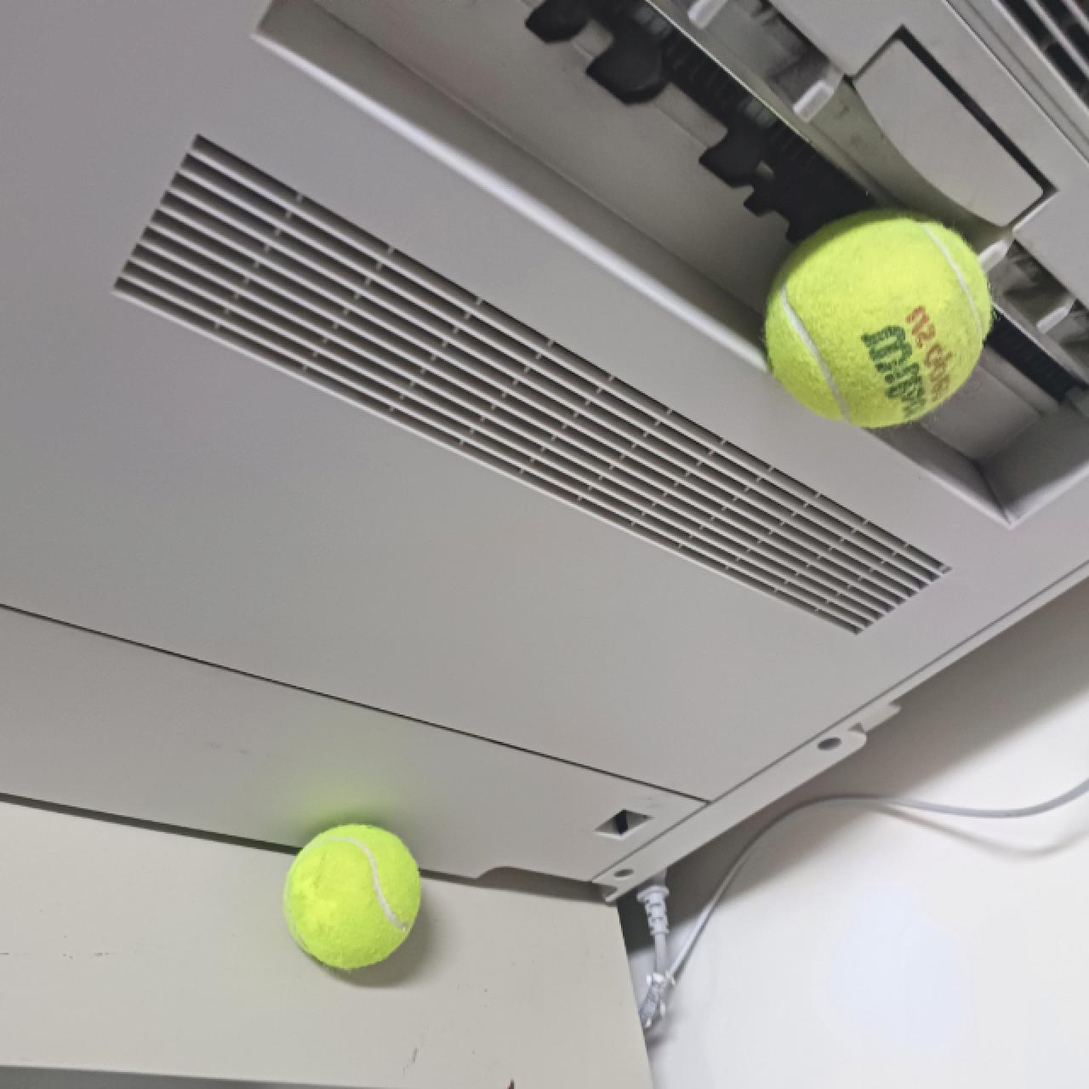tennis-ball: (760, 204, 993, 429), (282, 823, 425, 973)
